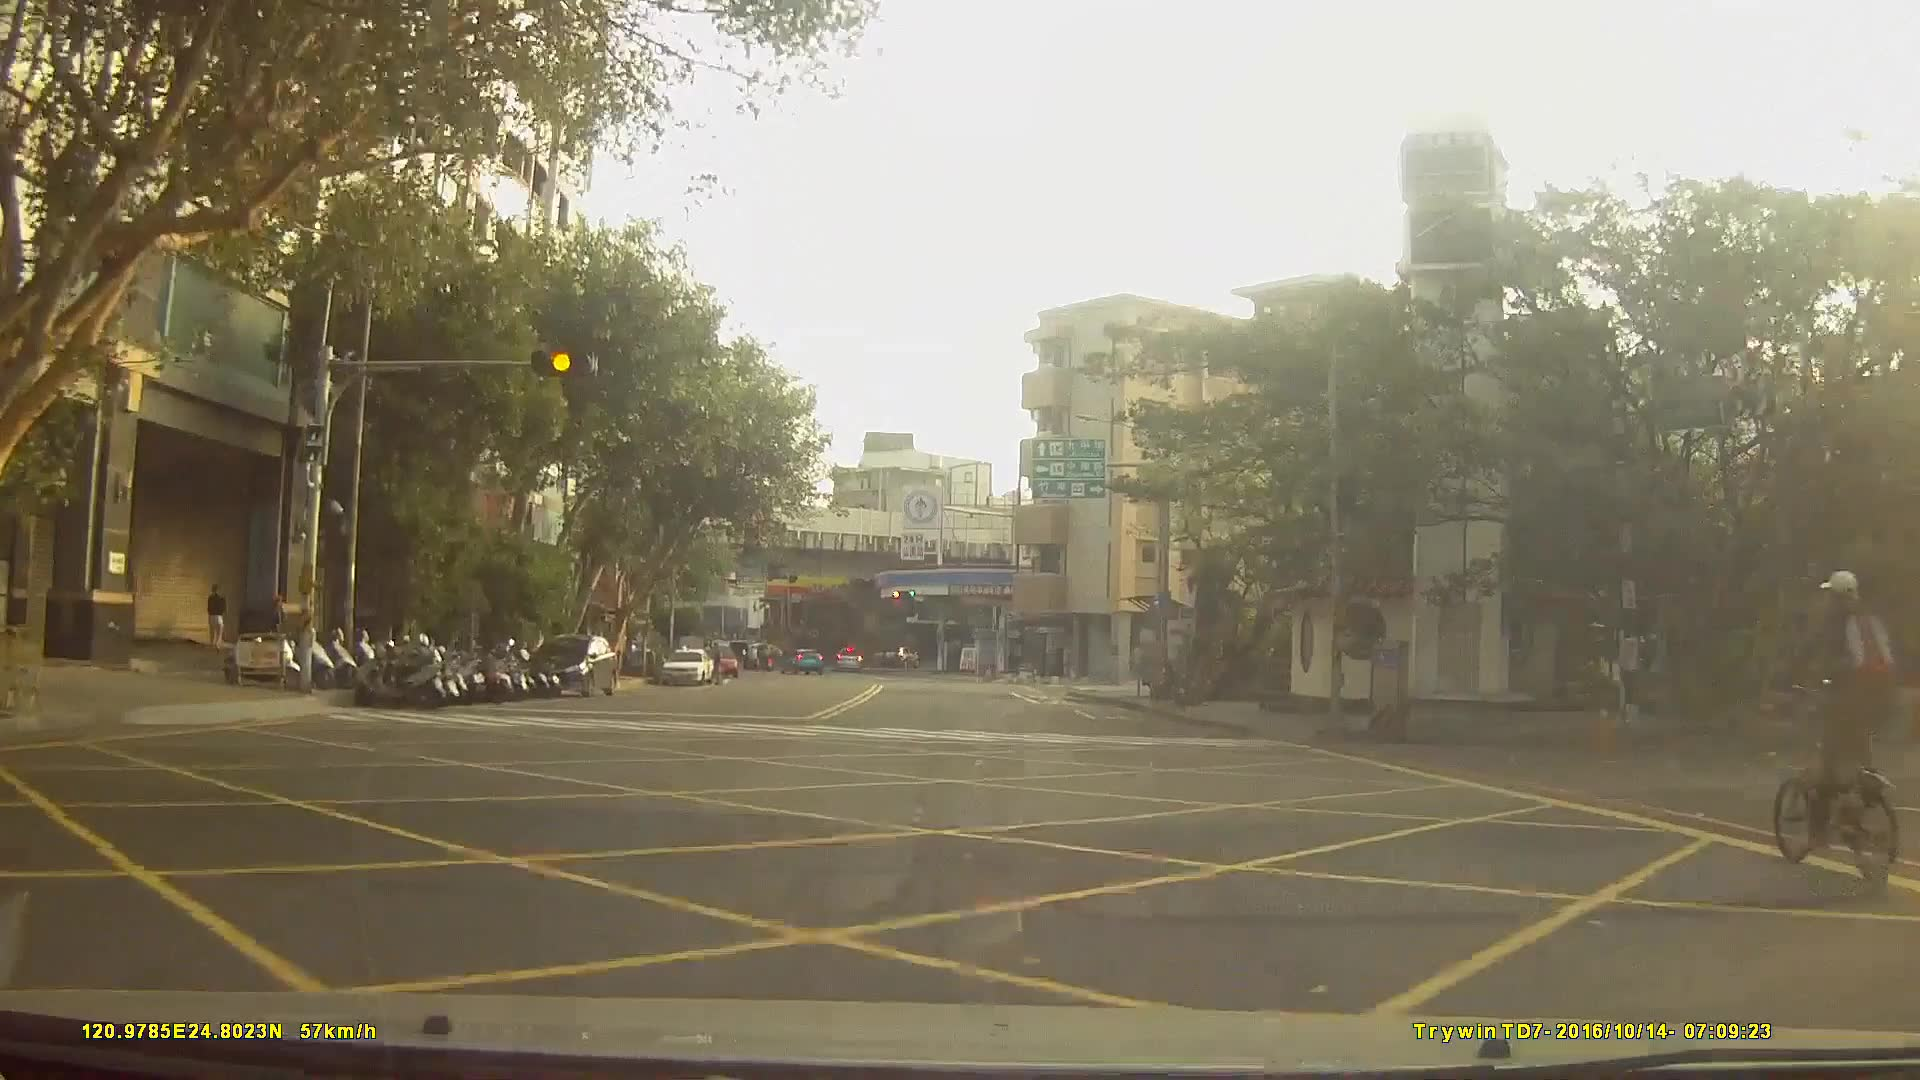pedestrian: (207, 579, 229, 652)
rider: (1766, 571, 1900, 876)
vehicle: (524, 631, 616, 697), (656, 645, 711, 685), (695, 642, 738, 679), (780, 645, 821, 674), (832, 642, 862, 670)
